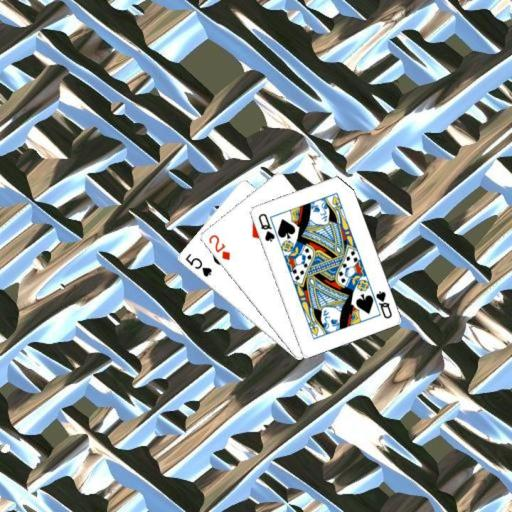2D: (206, 231, 231, 262)
5S: (182, 250, 213, 279)
QS: (254, 210, 276, 243), (373, 287, 393, 320)
